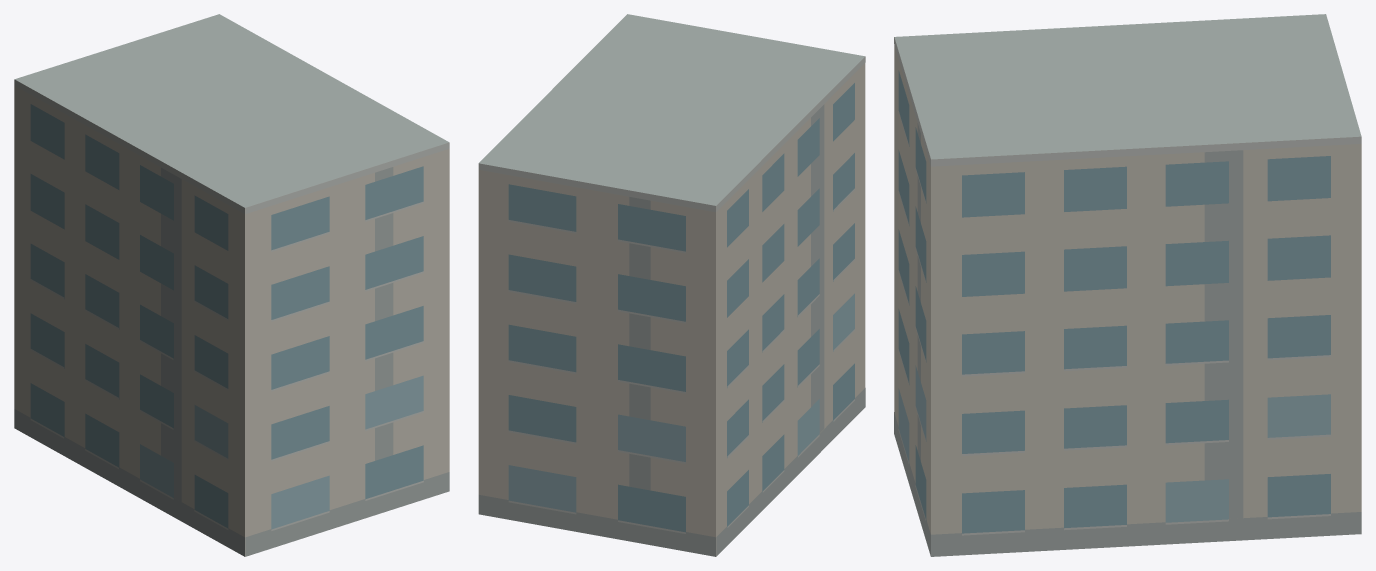
The model's file is survey-upis-33010758.glb.
3 renders of one model, left to right at view 1: azimuth 30°, elevation 25°; view 2: azimuth 150°, elevation 25°; view 3: azimuth 270°, elevation 25°, orthographic. The views are drawn at different scales.
Parts seen in each view (by area): view 1: survey-upis-33010758.tmp; view 2: survey-upis-33010758.tmp; view 3: survey-upis-33010758.tmp.
Part boxes in pixels (bbox=[...]): survey-upis-33010758.tmp: bbox=[14, 14, 449, 556]; survey-upis-33010758.tmp: bbox=[478, 14, 865, 556]; survey-upis-33010758.tmp: bbox=[894, 14, 1361, 556].
Size of the model in its own units: 10.49 by 13.35 by 14.24.
